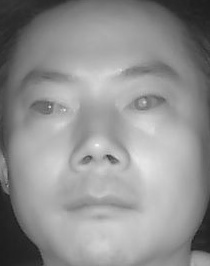eye: (29, 94, 73, 122), (125, 90, 167, 118)
mouth: (67, 184, 139, 227)
